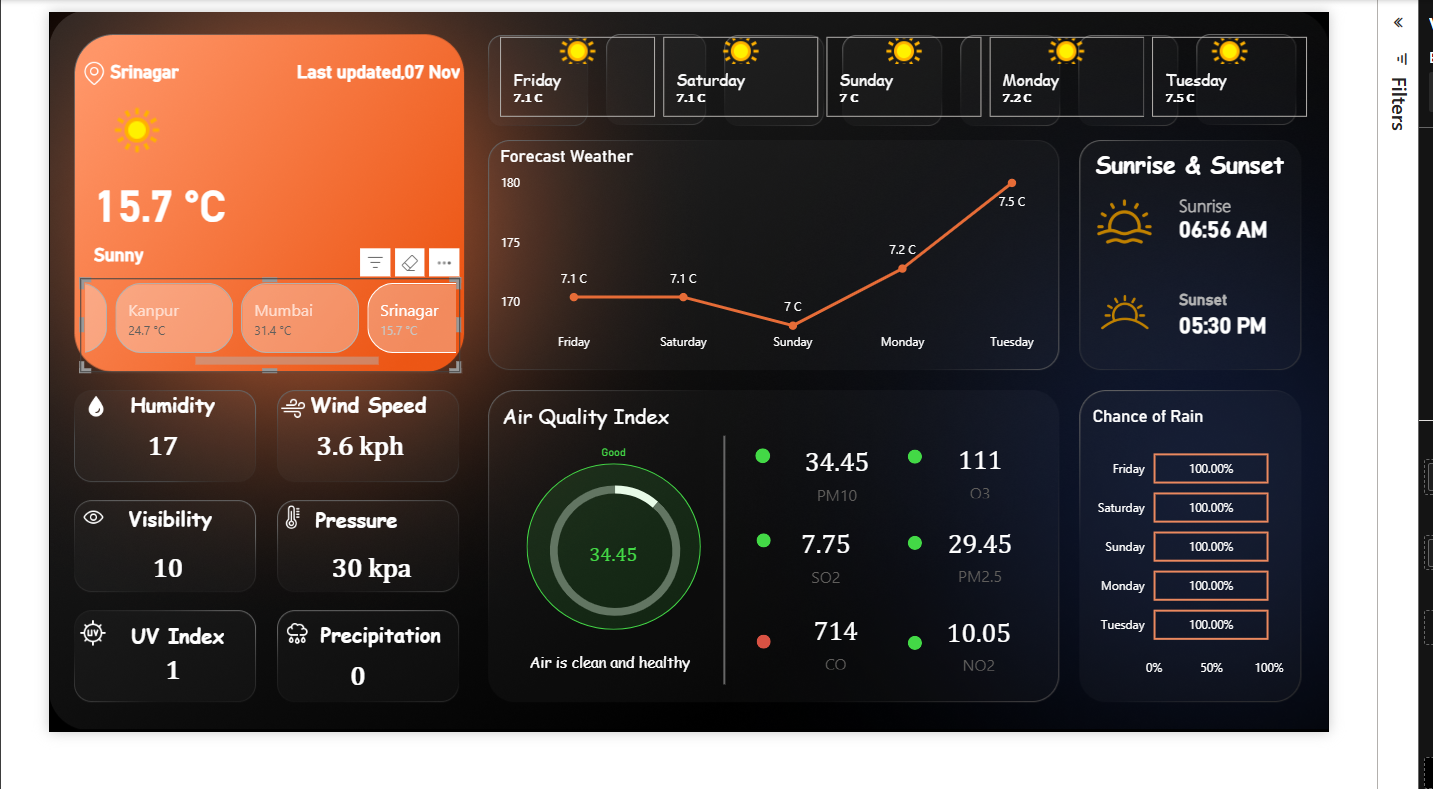

The dashboard page shown, as its layout file describes it:
{"tool":"powerbi","page":{"name":"Page 1","canvas":[1280,720],"ordinal":0},"visuals":[{"type":"advancedSlicerVisual","fields":{"Values":["location.location.name"],"Label":["_measures.curr_temp_c"]},"box":[31.7,266.7,380,93.3],"z":0},{"type":"shape","box":[45,145,170,97.5],"z":1000},{"type":"shape","box":[246.7,31.7,165,58.3],"z":2000},{"type":"shape","box":[61.7,31.7,126.7,58.3],"z":3000},{"type":"image","box":[0,45,90,33.3],"z":4000},{"type":"shape","box":[45,217.5,190,50],"z":5000},{"type":"cardVisual","fields":{"Data":["Min(current.current.condition.icon)"]},"box":[31.4,61.4,108.6,97.1],"z":6000},{"type":"image","box":[11.4,488.6,65.7,32.9],"z":7000},{"type":"shape","box":[58.6,377.1,130,32.9],"z":8000},{"type":"shape","box":[64.3,488.6,130,32.9],"z":9000},{"type":"shape","box":[64.3,608.6,130,32.9],"z":10000},{"type":"shape","box":[247.1,607.1,144.3,32.9],"z":11000},{"type":"shape","box":[247.1,488.6,130,32.9],"z":12000},{"type":"shape","box":[247.1,377.1,130,32.9],"z":13000},{"type":"image","box":[15.7,378.6,61.4,31.4],"z":14000},{"type":"image","box":[8.6,602.9,70,37.1],"z":15000},{"type":"image","box":[214.3,378.6,60,35.7],"z":16000},{"type":"image","box":[214.3,488.6,60,32.9],"z":17000},{"type":"image","box":[215.7,604.3,64.3,35.7],"z":18000},{"type":"card","fields":{"Values":["Sum(current.current.humidity)"]},"box":[38.6,410,150,48.6],"z":19000},{"type":"card","fields":{"Values":["Sum(current.current.precip_in)"]},"box":[234.3,640,150,48.6],"z":20000},{"type":"card","fields":{"Values":["Sum(current.current.vis_km)"]},"box":[44.3,531.4,150,48.6],"z":21000},{"type":"card","fields":{"Values":["Sum(current.current.uv)"]},"box":[48.6,641.4,150,32.9],"z":22000},{"type":"card","fields":{"Values":["_measures.pressure"]},"box":[247.1,531.4,150,48.6],"z":23000},{"type":"advancedSlicerVisual","fields":{"Values":["forecast by day.day name"],"Label":["_measures.ForTEMP_C"]},"box":[445.7,20,820,90],"z":24000},{"type":"lineChart","title":"Forecast Weather ","fields":{"Y":["Sum(forecast by day.forecast.forecastday.day.avgtemp_c)"],"Category":["forecast by day.day name"]},"box":[445.7,134.3,565.7,214.3],"z":25000},{"type":"shape","box":[1040,135.7,201.4,41.4],"z":26000},{"type":"shape","box":[1130,168.6,111.4,48.6],"z":27000},{"type":"shape","box":[1130,264.3,111.4,48.6],"z":28000},{"type":"shape","box":[1130,192.9,111.4,48.6],"z":29000},{"type":"shape","box":[1130,288.6,111.4,48.6],"z":30000},{"type":"image","box":[1035.7,264.3,78.6,72.9],"z":31000},{"type":"image","box":[1035.7,177.1,78.6,64.3],"z":32000},{"type":"hundredPercentStackedBarChart","title":"Chance of Rain ","fields":{"Y":["Sum(forecast by day.forecast.forecastday.day.daily_chance_of_rain)","_measures.LEFT VALUE RAIN"],"Category":["forecast by day.day name"]},"box":[1039,394,201,280],"z":33000},{"type":"shape","box":[445.7,390,181.4,40],"z":34000},{"type":"card","fields":{"Values":["_measures.wind_speed"]},"box":[236.7,410,150,48.3],"z":35000},{"type":"card","fields":{"Values":["Sum(current.current.air_quality.pm2_5)"]},"box":[873.3,505,115,75],"z":37000},{"type":"card","fields":{"Values":["Sum(current.current.air_quality.o3)"]},"box":[873.3,426.7,115,65],"z":38000},{"type":"card","fields":{"Values":["Sum(current.current.air_quality.so2)"]},"box":[721.7,506.7,111.7,73.3],"z":39000},{"type":"card","fields":{"Values":["Sum(current.current.air_quality.no2)"]},"box":[872.5,598.8,115,65],"z":40000},{"type":"card","fields":{"Values":["Sum(current.current.air_quality.co)"]},"box":[728.8,597.5,116.2,65],"z":41000},{"type":"card","fields":{"Values":["Sum(current.current.air_quality.pm10)"]},"box":[731.2,426.2,113.8,68.8],"z":42000},{"type":"shape","box":[706.7,436.7,15,15],"z":43000},{"type":"shape","box":[707.1,622.9,14.3,14.3],"z":43002},{"type":"shape","box":[707.1,521.4,14.3,14.3],"z":43003},{"type":"shape","box":[858.6,524.3,14.3,14.3],"z":43004},{"type":"shape","box":[858.6,437.1,14.3,14.3],"z":43005},{"type":"shape","box":[858.6,624.3,14.3,14.3],"z":43006},{"type":"shape","box":[627.1,424.3,95.7,248.6],"z":43007},{"type":"card","fields":{"Values":["Sum(current.current.air_quality.pm10)"]},"box":[507.1,508.6,114.3,68.6],"z":43009},{"type":"donutChart","fields":{"Y":["Sum(current.current.air_quality.pm10)","MEASURE.left value PM10"]},"box":[455.7,452.9,220,172.9],"z":43010},{"type":"shape","box":[477.1,434.3,174.3,184.3],"z":43011},{"type":"shape","box":[470,640,181.4,40],"z":43012}]}

Visuals, with their boxes on the page's 1280x720 design canvas (x1, y1, x2, y2). These are canvas units, not pixel positions in the 1433x789 screenshot, which may show the page scaled, cropped or inside an application window:
advancedSlicerVisual - location.location.name x _measures.curr_temp_c: 32/267/412/360
shape: 45/145/215/242
shape: 247/32/412/90
shape: 62/32/188/90
image: 0/45/90/78
shape: 45/218/235/268
cardVisual - Min(current.current.condition.icon): 31/61/140/158
image: 11/489/77/522
shape: 59/377/189/410
shape: 64/489/194/522
shape: 64/609/194/642
shape: 247/607/391/640
shape: 247/489/377/522
shape: 247/377/377/410
image: 16/379/77/410
image: 9/603/79/640
image: 214/379/274/414
image: 214/489/274/522
image: 216/604/280/640
card - Sum(current.current.humidity): 39/410/189/459
card - Sum(current.current.precip_in): 234/640/384/689
card - Sum(current.current.vis_km): 44/531/194/580
card - Sum(current.current.uv): 49/641/199/674
card - _measures.pressure: 247/531/397/580
advancedSlicerVisual - forecast by day.day name x _measures.ForTEMP_C: 446/20/1266/110
"Forecast Weather " lineChart: 446/134/1011/349
shape: 1040/136/1241/177
shape: 1130/169/1241/217
shape: 1130/264/1241/313
shape: 1130/193/1241/242
shape: 1130/289/1241/337
image: 1036/264/1114/337
image: 1036/177/1114/241
"Chance of Rain " hundredPercentStackedBarChart: 1039/394/1240/674
shape: 446/390/627/430
card - _measures.wind_speed: 237/410/387/458
card - Sum(current.current.air_quality.pm2_5): 873/505/988/580
card - Sum(current.current.air_quality.o3): 873/427/988/492
card - Sum(current.current.air_quality.so2): 722/507/833/580
card - Sum(current.current.air_quality.no2): 872/599/988/664
card - Sum(current.current.air_quality.co): 729/598/845/662
card - Sum(current.current.air_quality.pm10): 731/426/845/495
shape: 707/437/722/452
shape: 707/623/721/637
shape: 707/521/721/536
shape: 859/524/873/539
shape: 859/437/873/451
shape: 859/624/873/639
shape: 627/424/723/673
card - Sum(current.current.air_quality.pm10): 507/509/621/577
donutChart - Sum(current.current.air_quality.pm10) x MEASURE.left value PM10: 456/453/676/626
shape: 477/434/651/619
shape: 470/640/651/680
